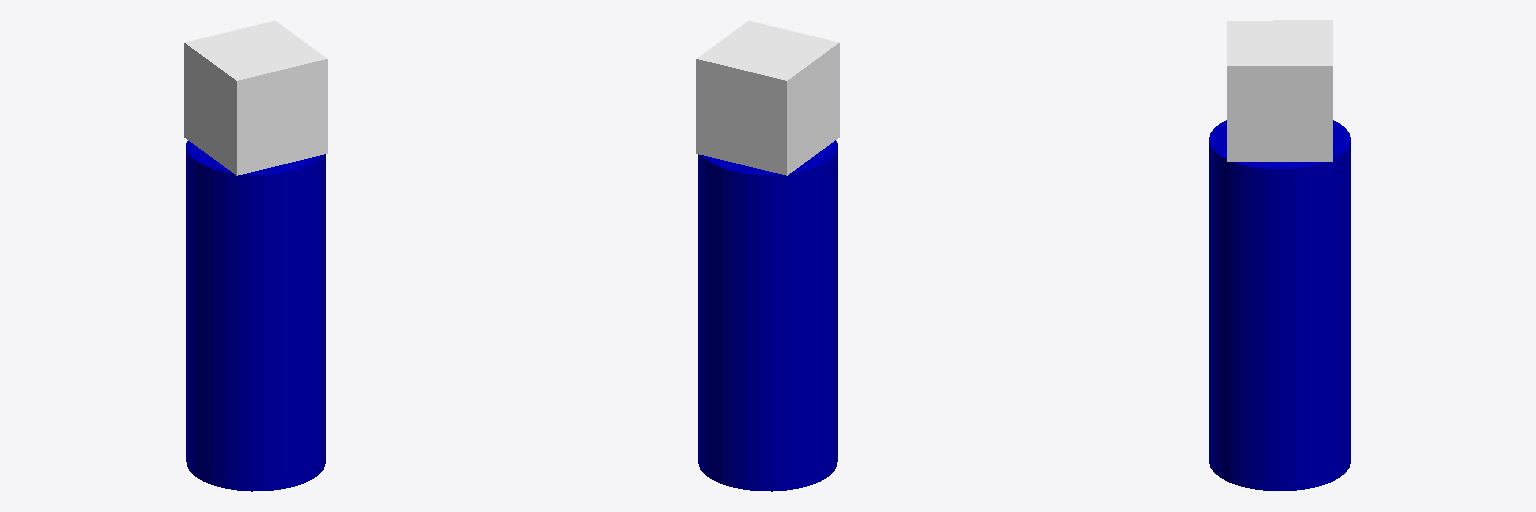
robot.urdf — two_link:
<?xml version="1.0"?>
<robot name="two_link">
<!-- -->

<!--We could use urdf to define the transforms between coordinate frames for the robot-->


<!--Define the colour properties-->
<material name="blue">
    <color rgba="0 0 0.8 1"/>
  </material>

  <material name="white">
    <color rgba="1 1 1 1"/>
  </material>

<!--Define the link properties-->
<link name="base_link">
<visual>
<geometry>
<cylinder length="1.0" radius="0.2"/>
</geometry>
<origin rpy="0 0 0" xyz="0 0 0.5"/>
<material name="blue"/>
</visual>
</link>

<link name="head">
<visual>
<geometry>
<!--dimensions for size (x,y,z) in ros coordinate conventions-->
<box size="0.3 0.3 0.3"/>
</geometry>
<origin rpy="0 0 0" xyz="0 0 0.15"/>
<material name="white"/>
</visual>
</link>

<joint name="head joint" type="continuous">
    <parent link="base_link"/>
    <child link="head"/>
    <!--<limit effort="1000.0" lower="0" upper="0" velocity="0.5"/>-->
    <!--The origin defines the transform  -->
    <origin rpy="0 0 -1.57" xyz="0 0 1"/>
    <axis xyz="0 0 1" />
  </joint>




</robot>

--- What the picture shows (computed from the rendered views, not written in the file) ---
3 views of the same robot in one strip: view 1: azimuth 30°, elevation 25°; view 2: azimuth 150°, elevation 25°; view 3: azimuth 270°, elevation 25° (orthographic).
Robot: two_link — 2 links, 1 joints (1 continuous); root link base_link; default pose: all joints at 0.
Links seen in each view (by area): view 1: base_link, head; view 2: base_link, head; view 3: base_link, head.
Boxes of the visible links, x1=… form: base_link: x1=186, y1=141, x2=325, y2=491; head: x1=184, y1=21, x2=327, y2=175; base_link: x1=698, y1=140, x2=837, y2=491; head: x1=696, y1=21, x2=839, y2=175; base_link: x1=1209, y1=120, x2=1350, y2=490; head: x1=1227, y1=20, x2=1332, y2=161.
Bounding box of the posed robot: 0.4 × 0.4 × 1.3 m (x, y, z).
Geometry: primitives only (box / cylinder / sphere), no mesh files.